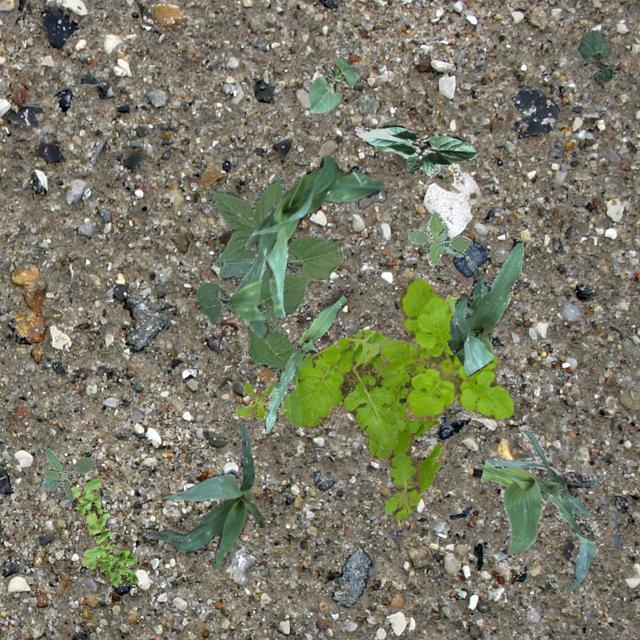crop: (228, 154, 382, 336), (479, 424, 604, 590), (148, 424, 264, 568), (264, 292, 346, 432), (446, 242, 522, 374), (354, 124, 476, 176), (307, 54, 358, 112), (576, 29, 612, 82)
weed: (284, 293, 468, 522), (195, 176, 342, 380), (378, 278, 514, 420), (70, 476, 138, 586), (406, 210, 471, 264), (40, 446, 94, 499), (233, 379, 284, 418)
